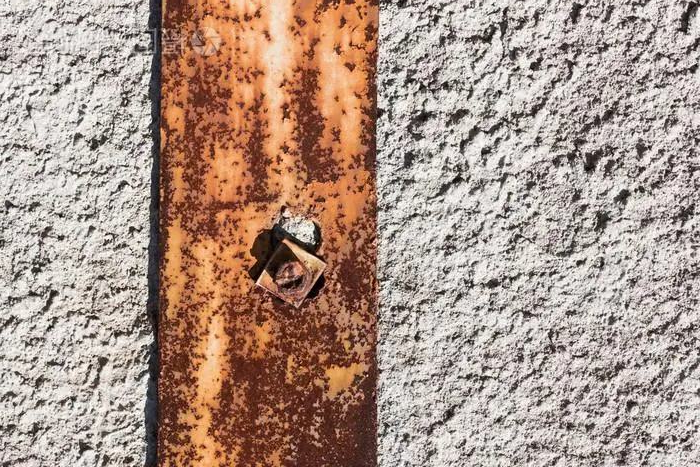Corrosion: (157, 1, 377, 467)
